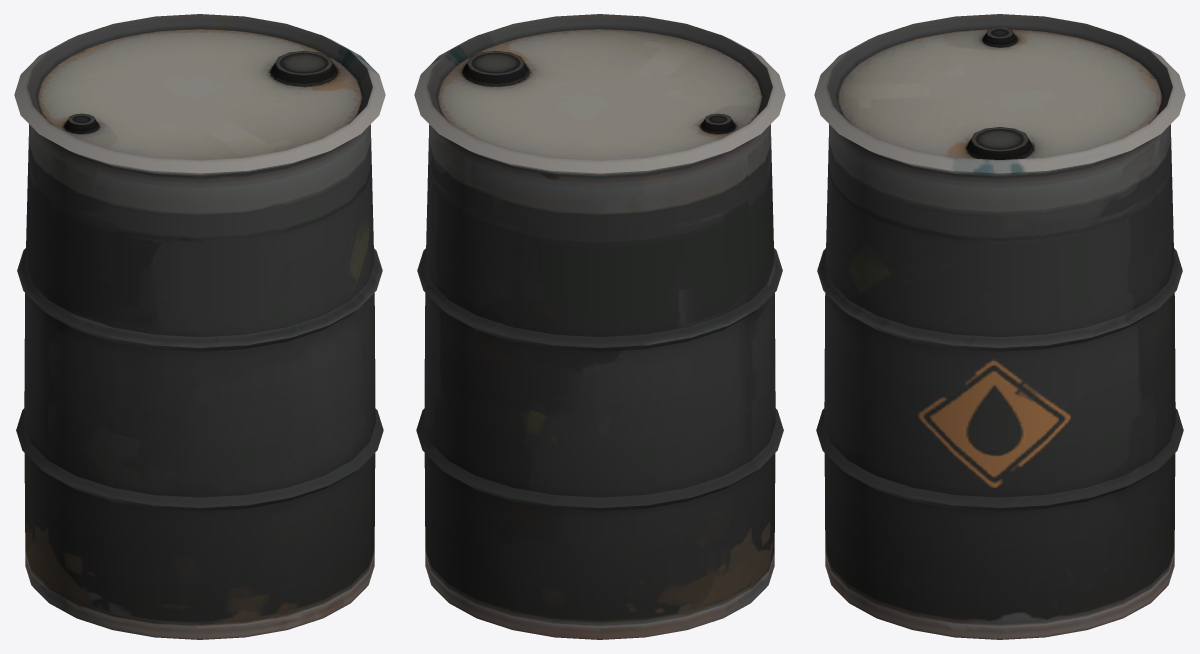
The model's file is barrel02.glb.
3 renders of one model, left to right at view 1: azimuth 30°, elevation 25°; view 2: azimuth 150°, elevation 25°; view 3: azimuth 270°, elevation 25°, orthographic.
Visible parts, largest first — view 1: barrel02; view 2: barrel02; view 3: barrel02.
Boxes of the visible parts, x1,y1,x2,y2 form: barrel02: [14, 14, 385, 639]; barrel02: [414, 14, 785, 639]; barrel02: [814, 14, 1185, 639].
Size of the model in its own units: 1.07 by 1.52 by 1.07.
Materials: 1 (1 with a texture image).
